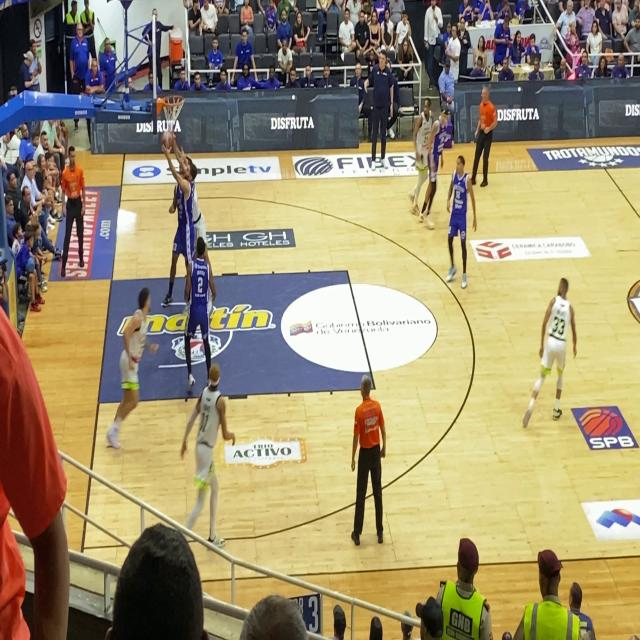Ball: (156, 126, 174, 157)
referee: (332, 358, 394, 550), (58, 139, 94, 292), (471, 77, 499, 202)
team1: (181, 353, 238, 563), (522, 271, 582, 443), (110, 268, 158, 463), (411, 91, 433, 230)
team2: (443, 153, 481, 294), (182, 231, 216, 384), (425, 92, 453, 238), (173, 157, 196, 277)
ubasket: (160, 95, 184, 126)
